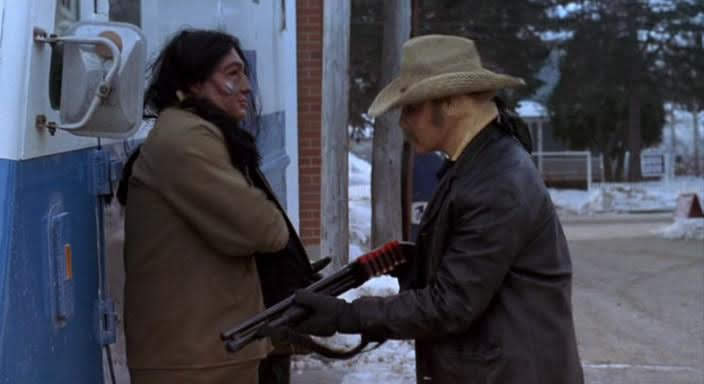gun: (146, 228, 459, 354)
